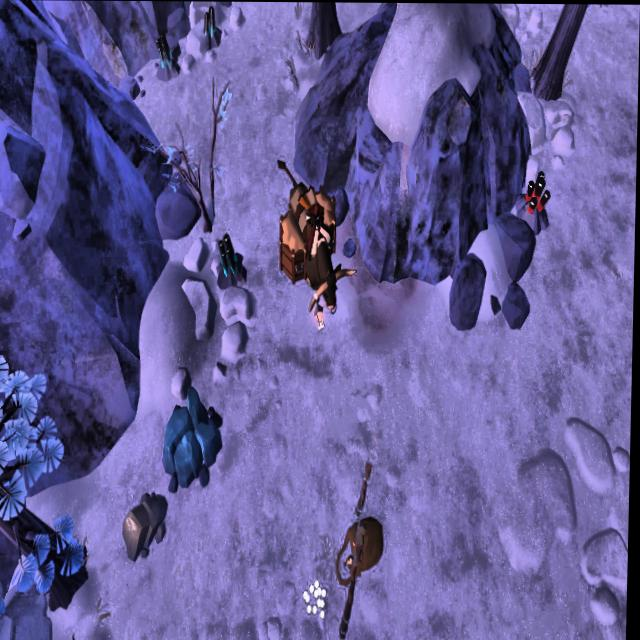ore_t4: (219, 228, 241, 276), (157, 28, 173, 73), (202, 5, 217, 43)
ore_t5: (526, 168, 556, 212)
rock_t4: (165, 379, 226, 493)
